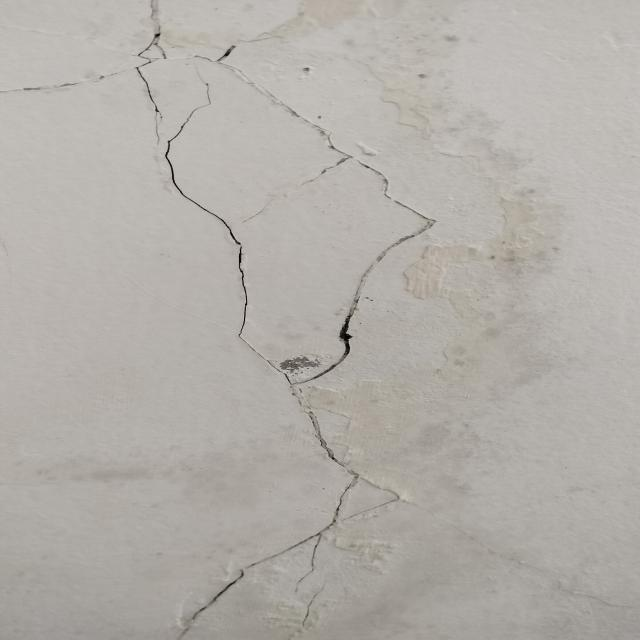Crack: (14, 3, 464, 640)
